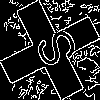S: (25, 25, 81, 76)
